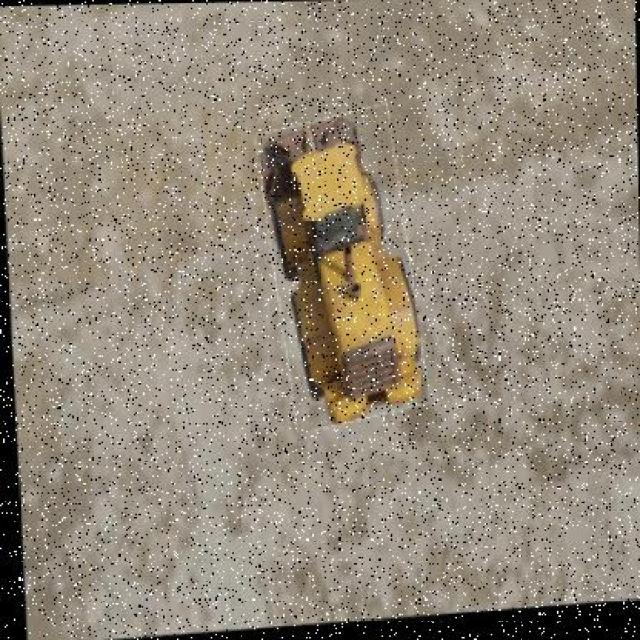buldozerpayloadergrader: (262, 112, 424, 425)
